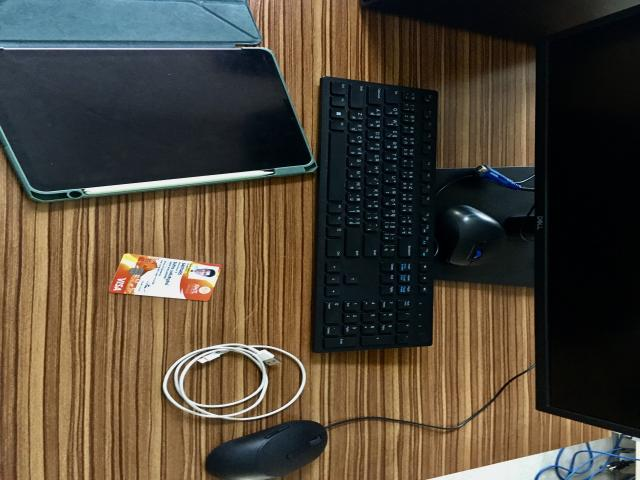Mouse: (204, 421, 328, 480), (443, 206, 506, 270)
wire: (161, 344, 309, 422)
